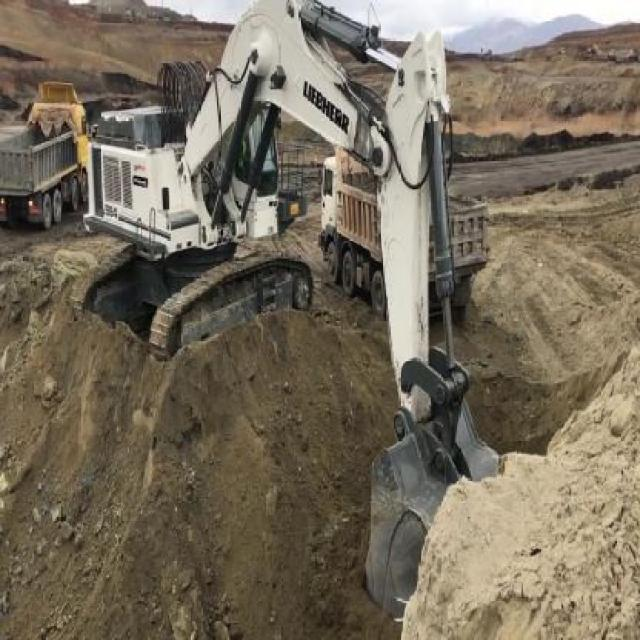dump_truck: (320, 144, 492, 318), (0, 80, 91, 226)
excavator: (77, 0, 508, 628)
